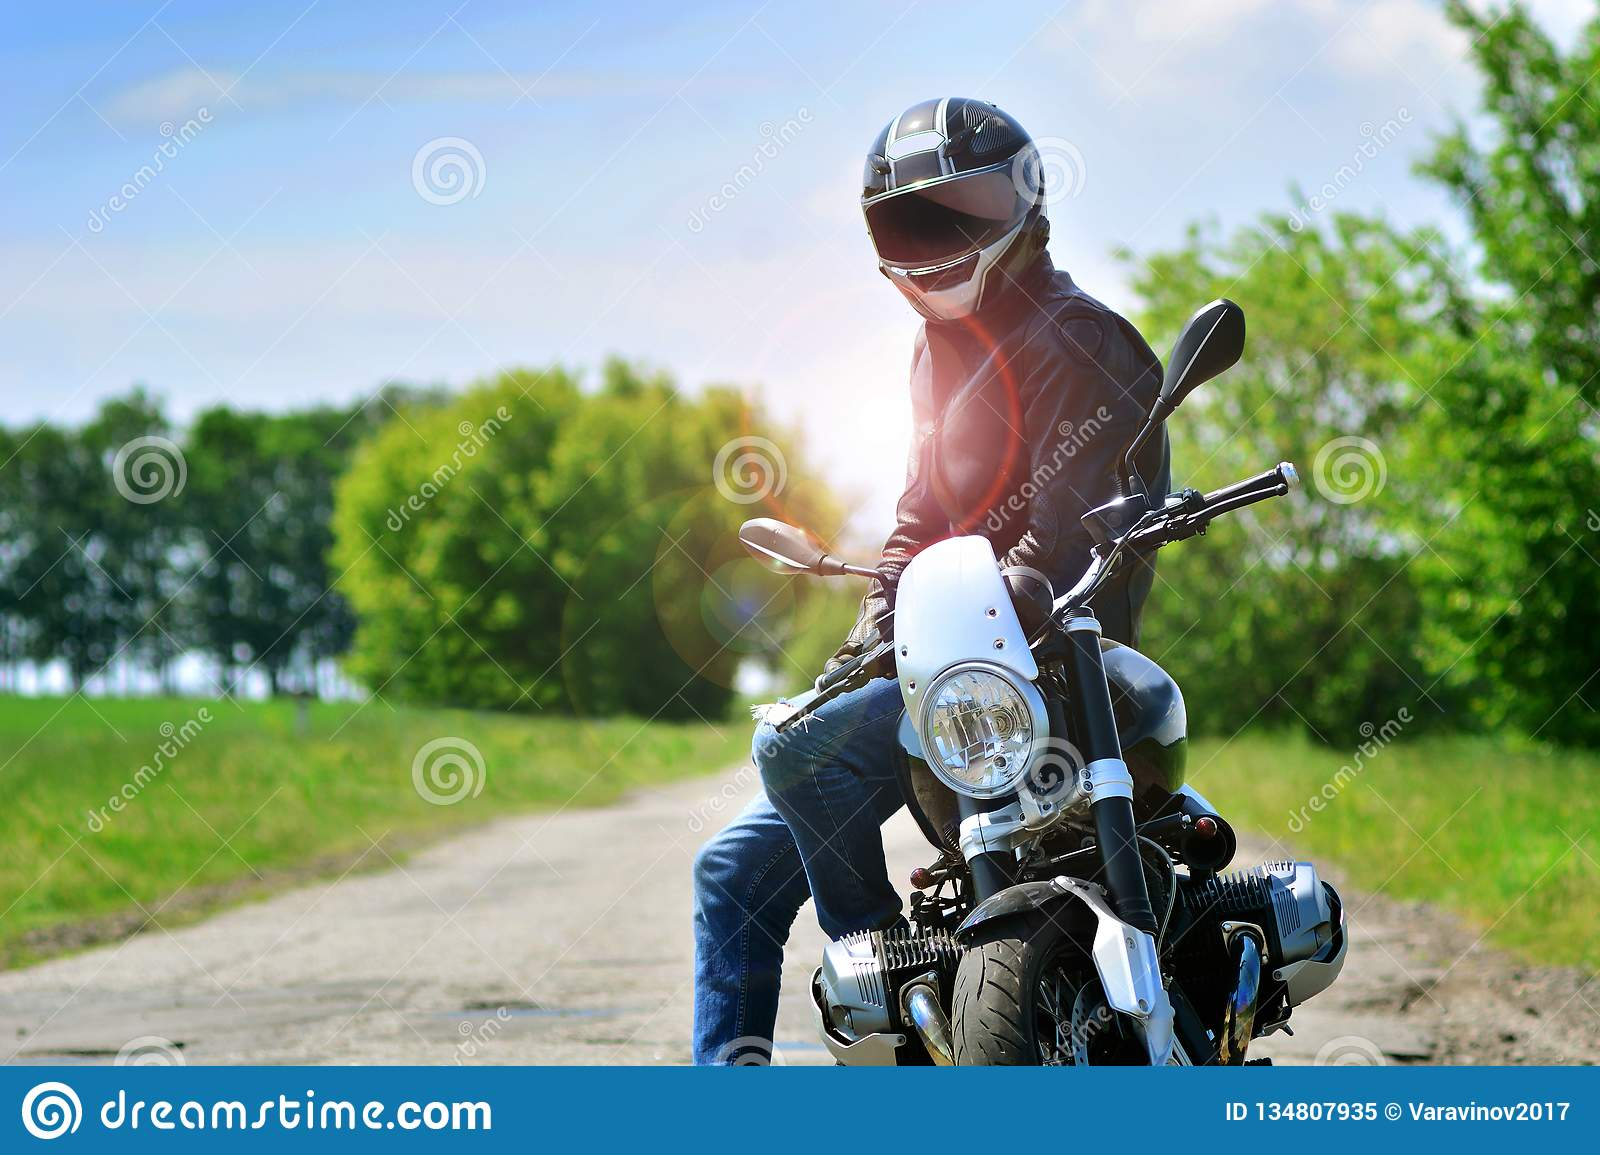helmet: (855, 94, 1052, 299)
